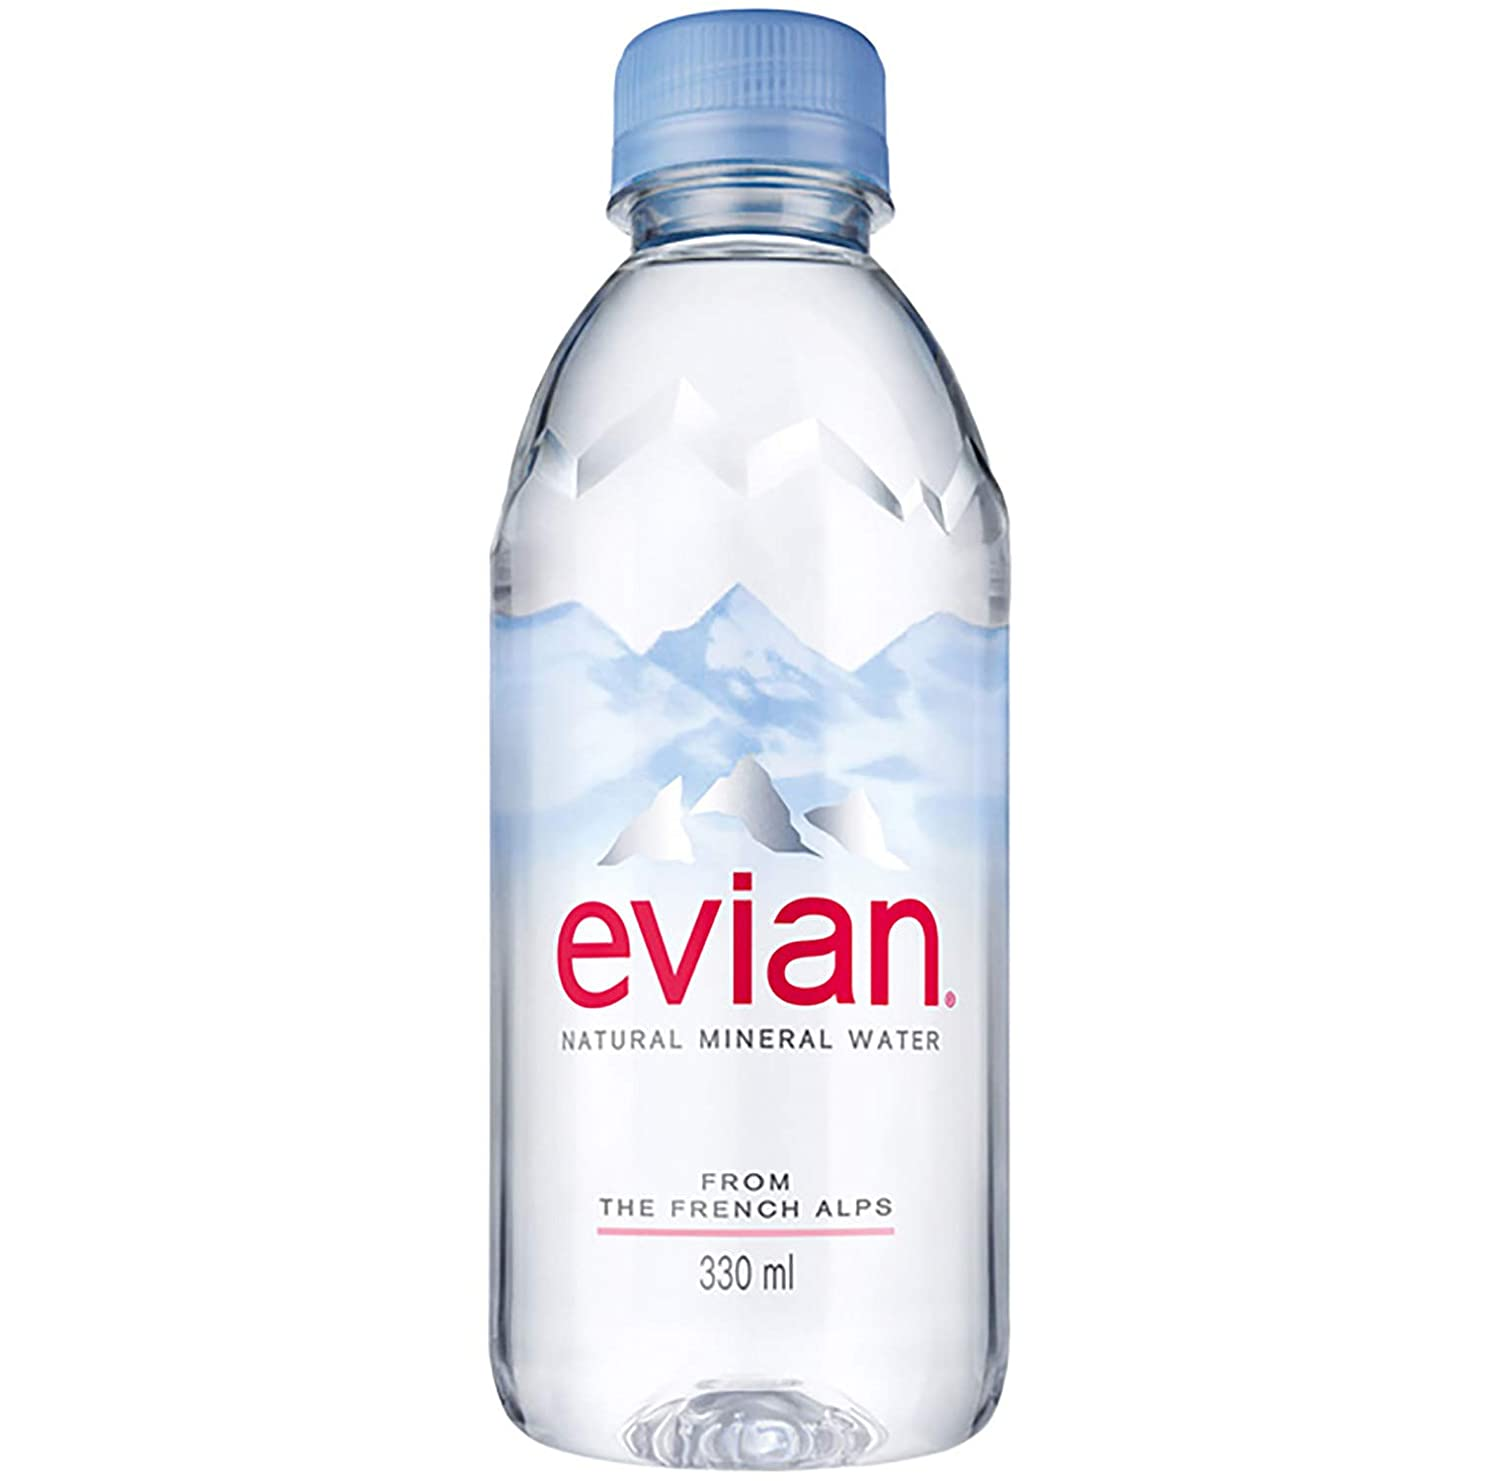PlasticBottle: (467, 18, 1019, 1463)
